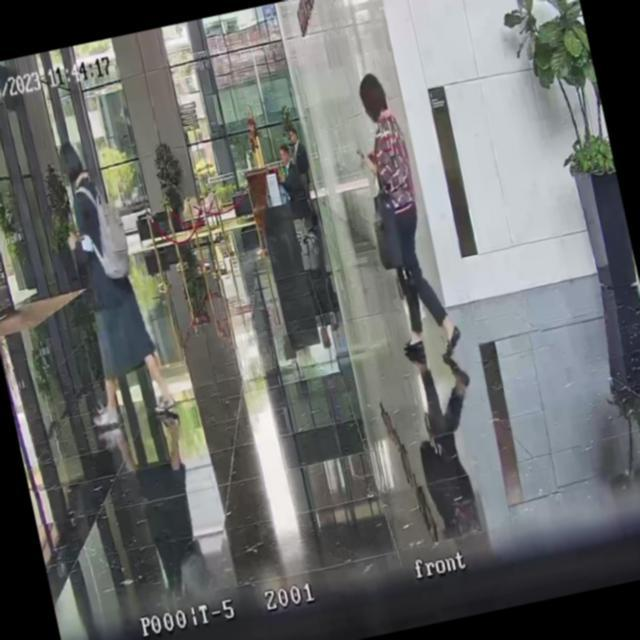person: (42, 129, 182, 444), (344, 65, 466, 369), (286, 127, 324, 235), (271, 142, 309, 216)
